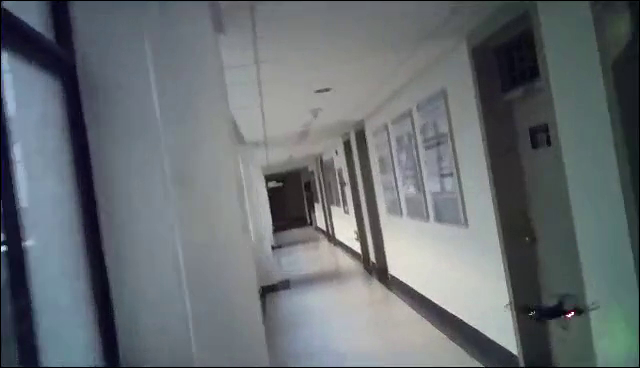drone: (500, 292, 602, 333)
